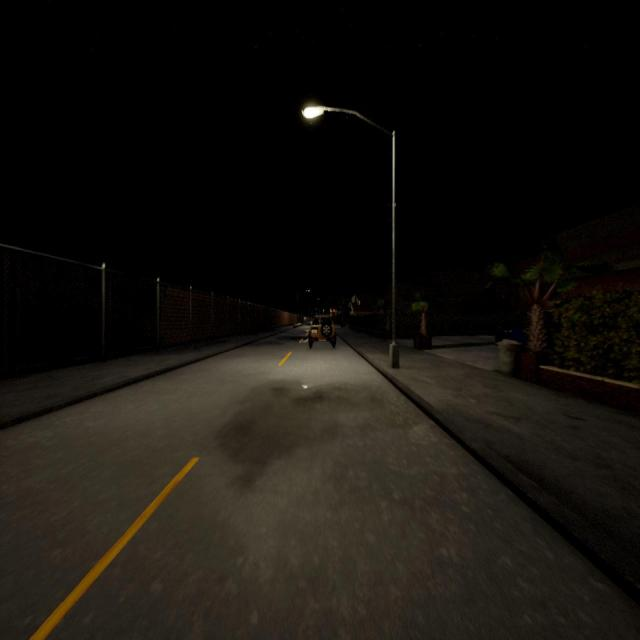Vehicle: (308, 315, 336, 348)
traffic_light: (332, 309, 335, 315)
